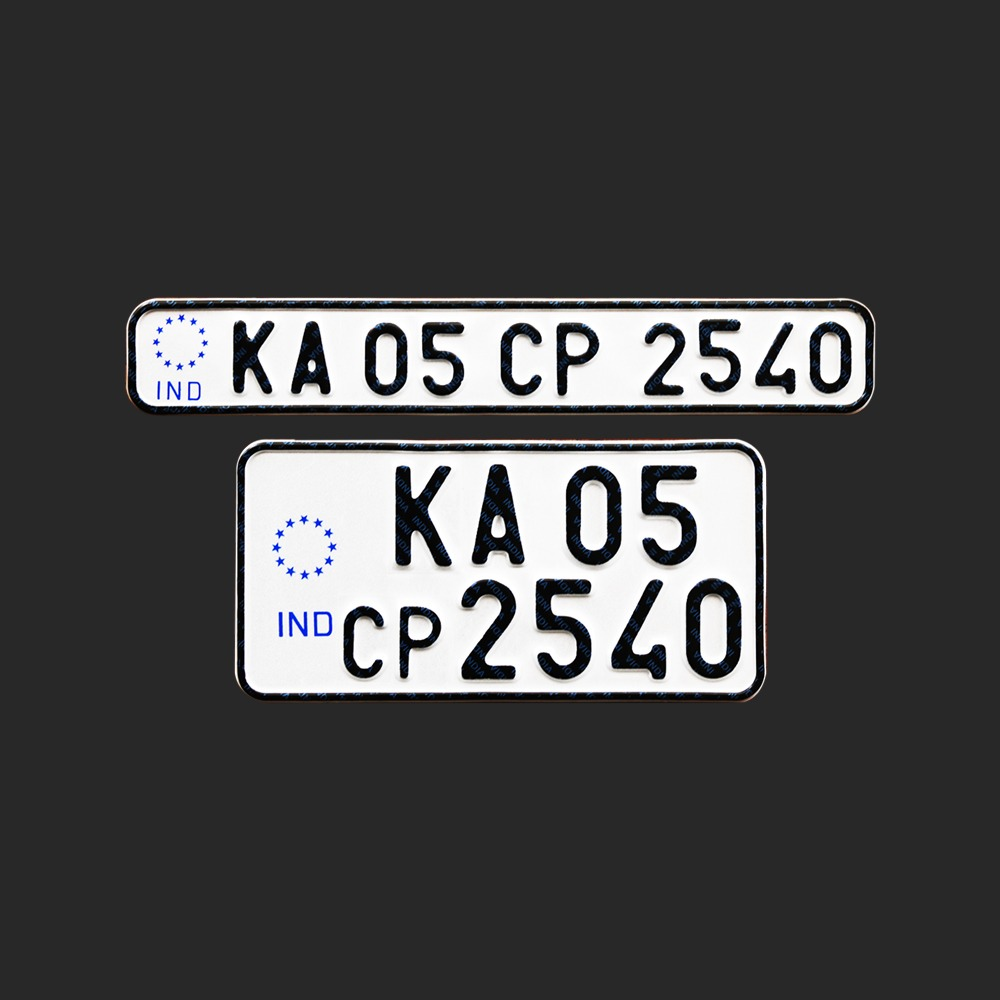number_plate: (229, 432, 770, 706), (126, 280, 885, 425)
